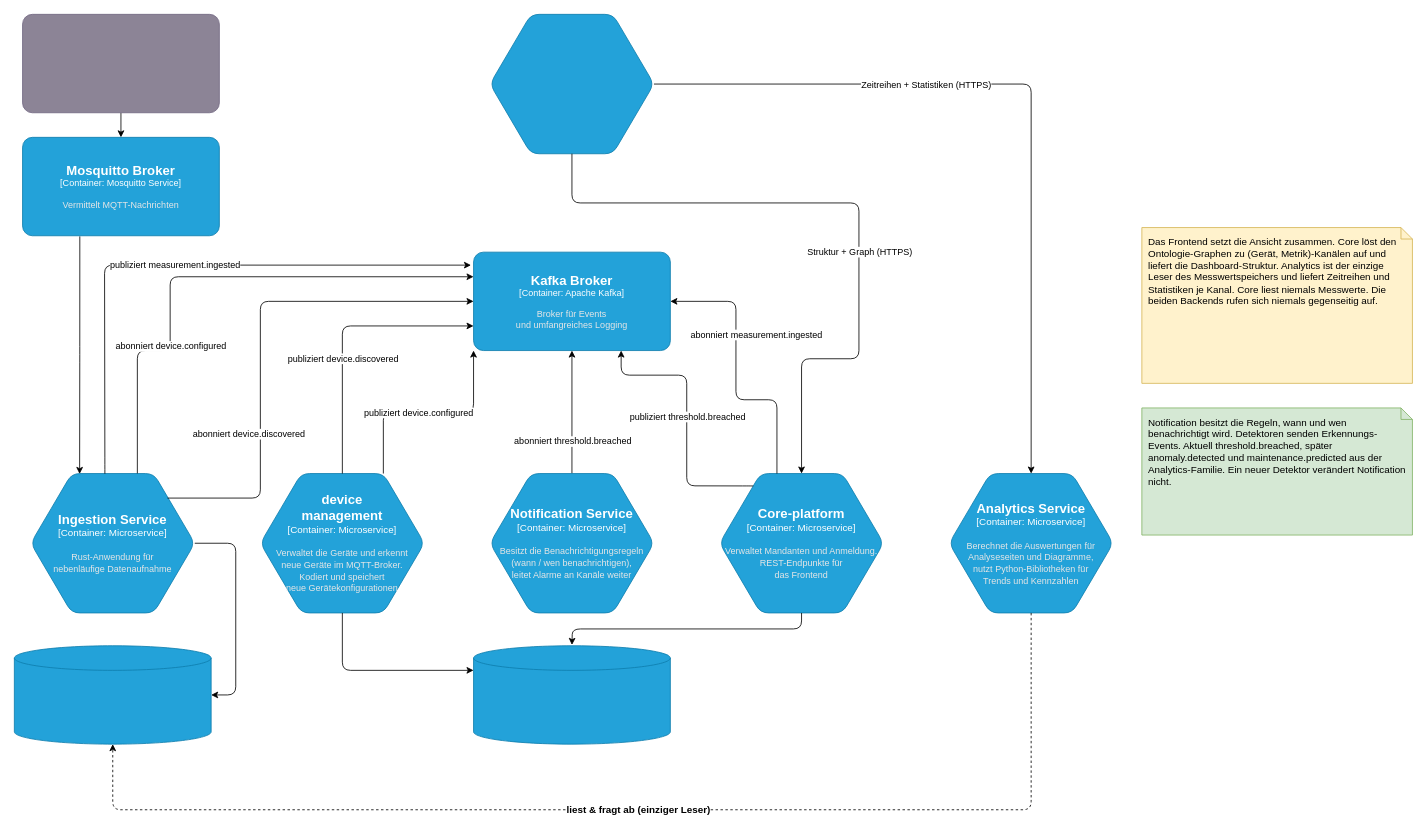
The diagram is 1427 pixels wide and 831 high, and some of its shapes have lost their labels. The shapes that lost their labels are listed below. From the top down, each one's centre as x and y in pixels, then its label:
(x=120, y=63): edge device [Software System] Gateway mit angeschlossenen Sensoren
(x=571, y=84): Web-App [Container: Microservice] Next.js-Anwendung für die Benutzeroberfläche
(x=112, y=694): timescaleDB [Container: ] Messwertspeicher, Ingestion schreibt, Analytics liest
(x=571, y=694): postgresDB [Container: ] Postgres-Datenbank
